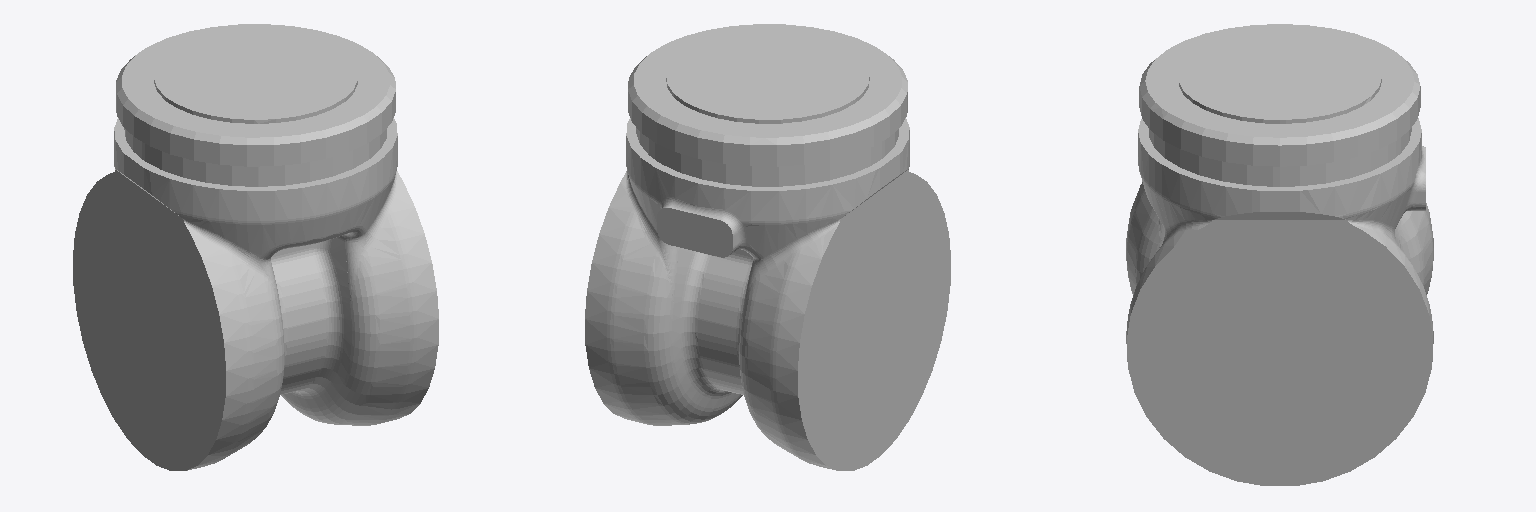
3 renders of one model, left to right at view 1: azimuth 30°, elevation 25°; view 2: azimuth 150°, elevation 25°; view 3: azimuth 270°, elevation 25°, orthographic.
Visible parts, largest first — view 1: transform4; view 2: transform4; view 3: transform4.
Boxes of the visible parts, box(x1,y1,x2,y2) form: transform4: box(73, 24, 438, 470); transform4: box(585, 24, 950, 470); transform4: box(1126, 24, 1433, 485).
Bounding box in the file's own units: 9.45 × 13.29 × 10.32.